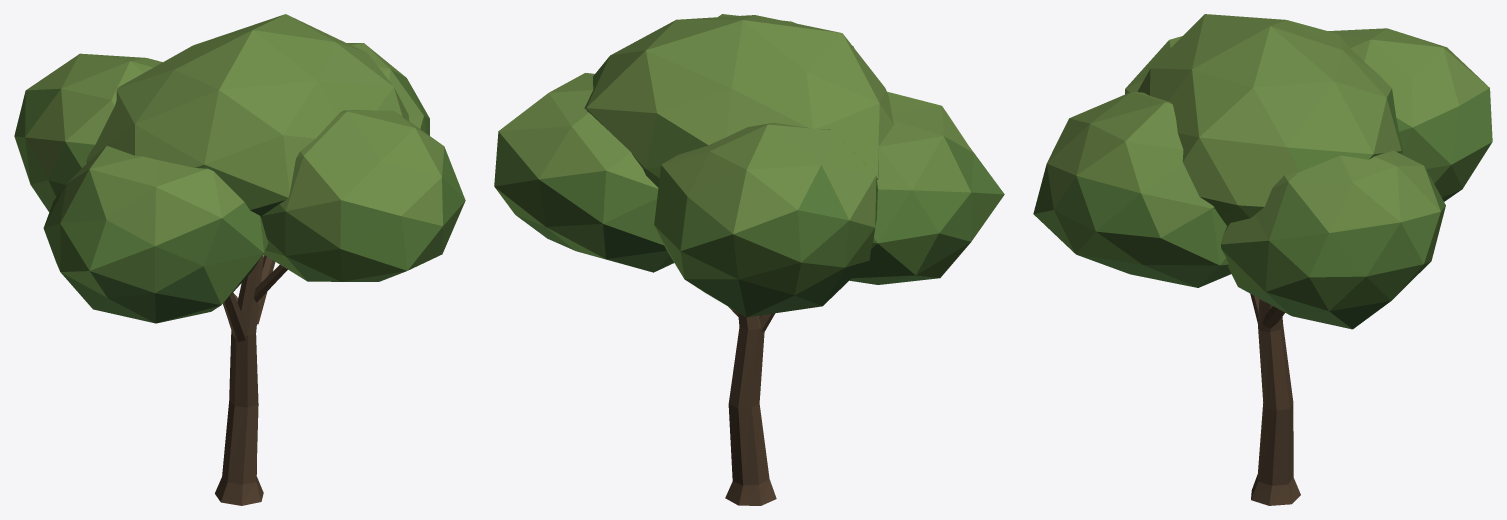
The model's file is RoadsideTree.obj.
3 renders of one model, left to right at view 1: azimuth 30°, elevation 25°; view 2: azimuth 150°, elevation 25°; view 3: azimuth 270°, elevation 25°, orthographic. The views are drawn at different scales.
Visible parts, largest first — view 1: RoadsideTree; view 2: RoadsideTree; view 3: RoadsideTree.
Boxes of the visible parts, <box> form: RoadsideTree: <box>14,14,465,505</box>; RoadsideTree: <box>494,14,1004,505</box>; RoadsideTree: <box>1033,14,1492,505</box>.
Size of the model in its own units: 6.41 by 7.01 by 6.15.
